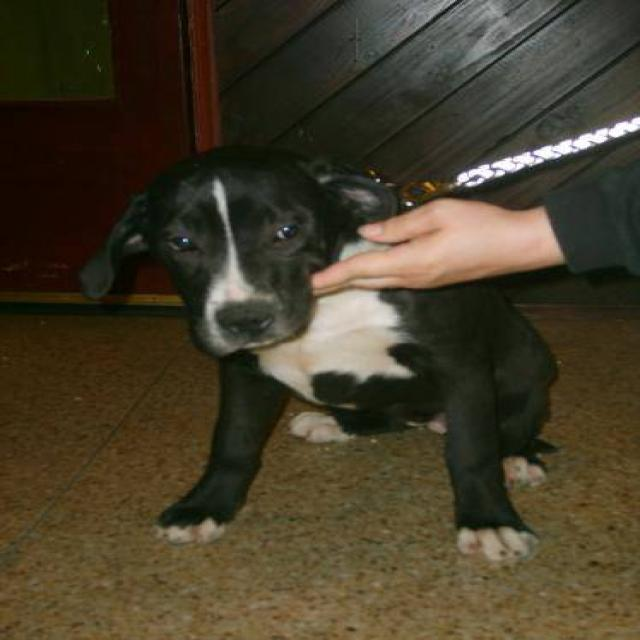Dog: (90, 140, 386, 361)
